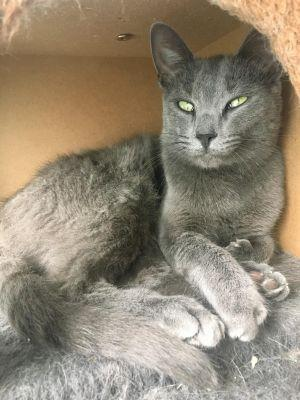rblue: (135, 15, 300, 187)
